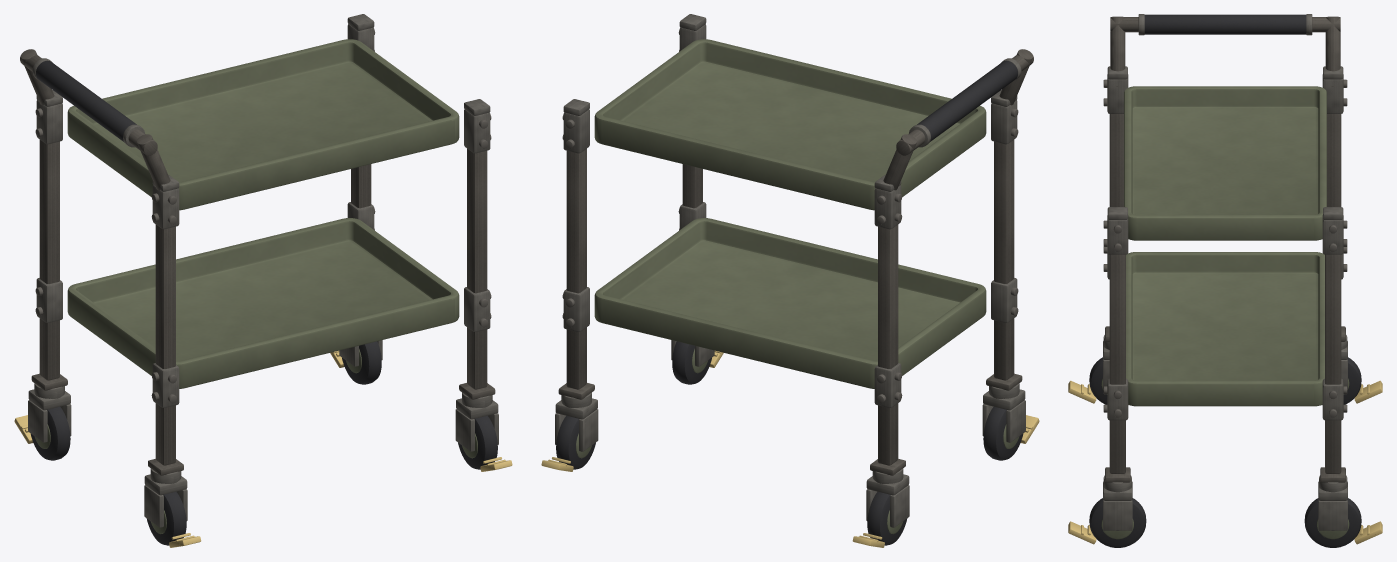
Rendered from cart.glb.
3 renders of one model, left to right at view 1: azimuth 30°, elevation 25°; view 2: azimuth 150°, elevation 25°; view 3: azimuth 270°, elevation 25°, orthographic. The views are drawn at different scales.
Visible parts, largest first — view 1: cart_body; view 2: cart_body; view 3: cart_body.
Boxes of the visible parts, box(x1,y1,x2,y2) form: cart_body: box(14, 14, 512, 547); cart_body: box(541, 14, 1039, 547); cart_body: box(1068, 14, 1382, 547).
Size of what is drawn, in the model's own units: 0.747 by 0.8308 by 0.6194.
6 materials, 4 textured.
